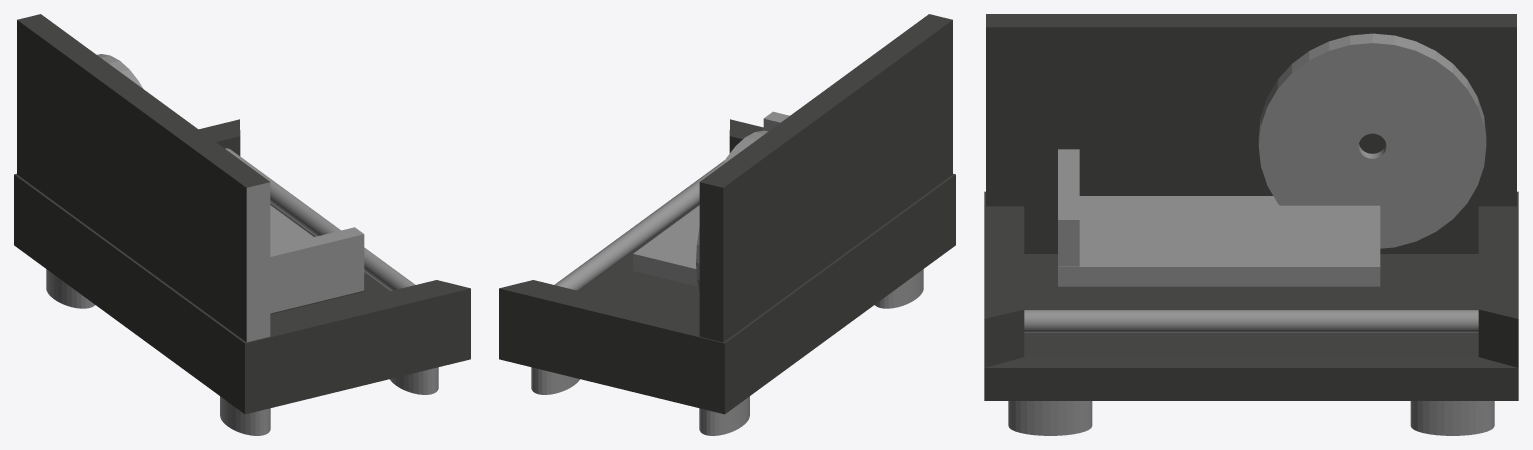
Rendered from slicer.fbx.
3 views of the same model, side by side, from view 1: azimuth 30°, elevation 25°; view 2: azimuth 150°, elevation 25°; view 3: azimuth 270°, elevation 25° (orthographic). The views are drawn at different scales.
Parts seen in each view (by area): view 1: Cylinder; view 2: Cylinder; view 3: Cylinder.
Part boxes in pixels (left/top/right/bottom): Cylinder: left=14, top=14, right=470, bottom=435; Cylinder: left=499, top=14, right=955, bottom=435; Cylinder: left=984, top=14, right=1518, bottom=435.
Size of the model in its own units: 732 by 413 by 456.
